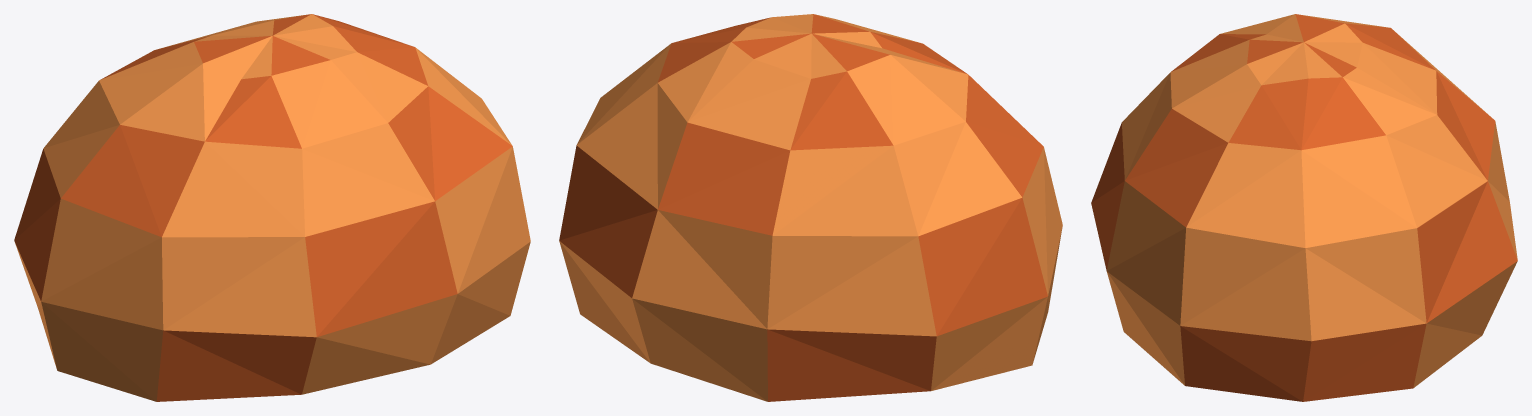
Rendered from coral_brain_orange.fbx.
The picture shows the model from 3 angles, left to right: view 1: azimuth 30°, elevation 25°; view 2: azimuth 150°, elevation 25°; view 3: azimuth 270°, elevation 25°; orthographic projection. The views are drawn at different scales.
Visible parts, largest first — view 1: coral_brain_orange; view 2: coral_brain_orange; view 3: coral_brain_orange.
Boxes of the visible parts, x1=… form: coral_brain_orange: x1=14, y1=14, x2=530, y2=401; coral_brain_orange: x1=559, y1=14, x2=1062, y2=401; coral_brain_orange: x1=1091, y1=14, x2=1517, y2=401.
Bounding box in the file's own units: 604 × 346 × 503.
Materials: 1 (1 with a texture image).
